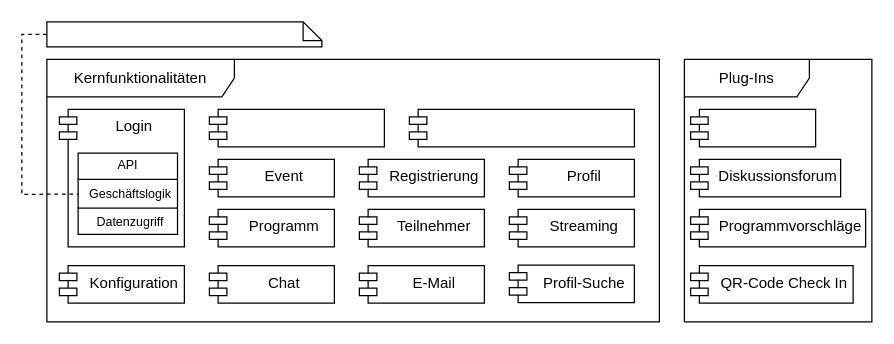
Image size: 894x344. Some labels were removed from this diagram. The centre of each missing label's shape, as x and y in pixels:
"Beispielhafte Darstellung der internen Modulstruktur" goes at [184,34].
"Push-Benachrichtigungen" goes at [521,127].
"Raumplanung" goes at [752,127].
"Veranstaltungsreihen" goes at [296,127].
